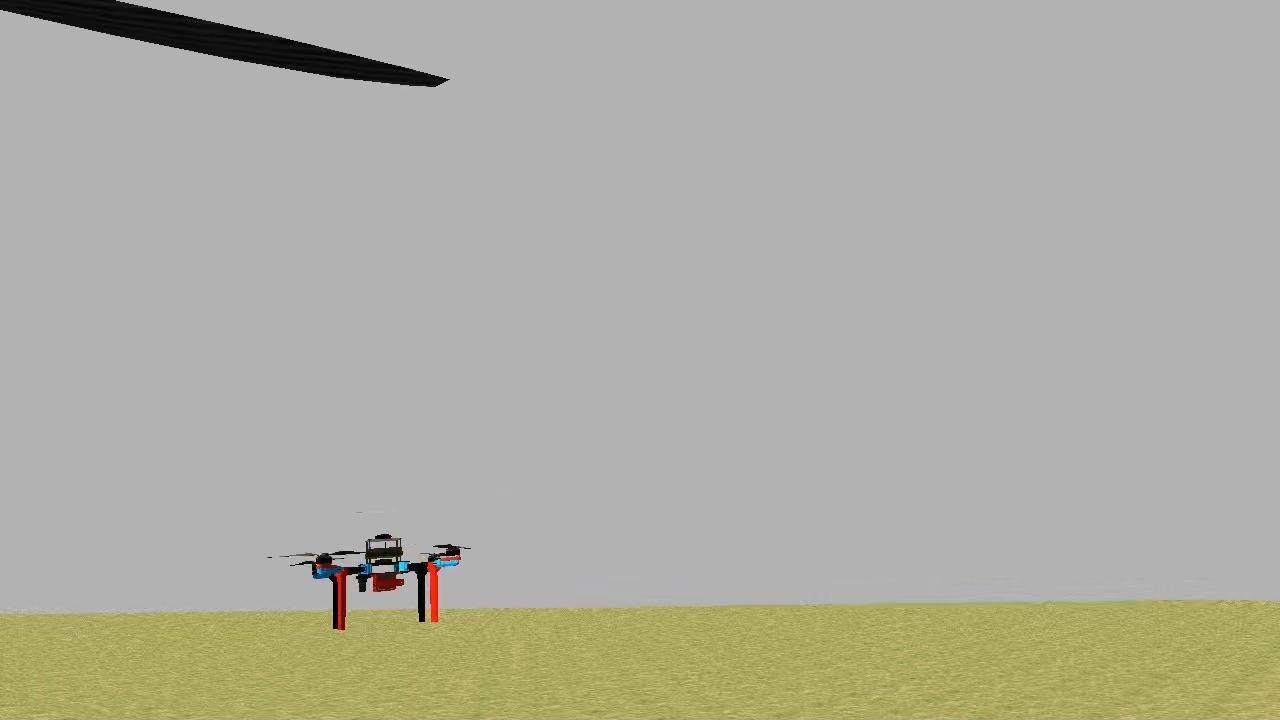UAV: (306, 528, 468, 636)
